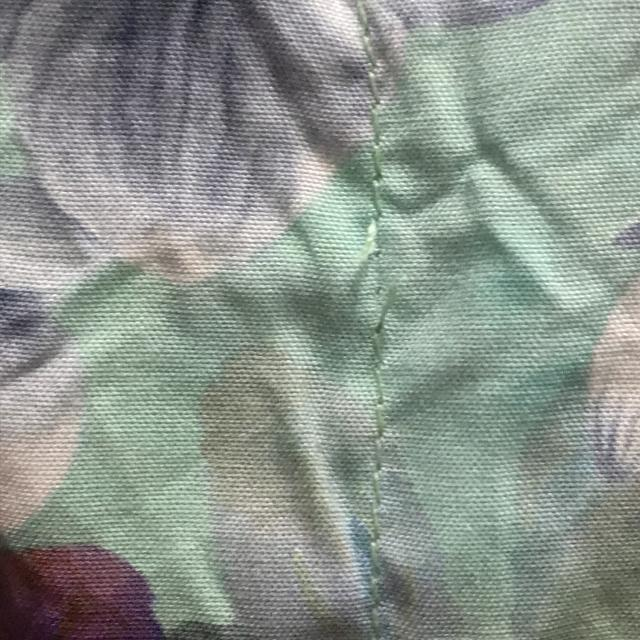broken: (343, 217, 411, 379)
good: (344, 415, 401, 569)
